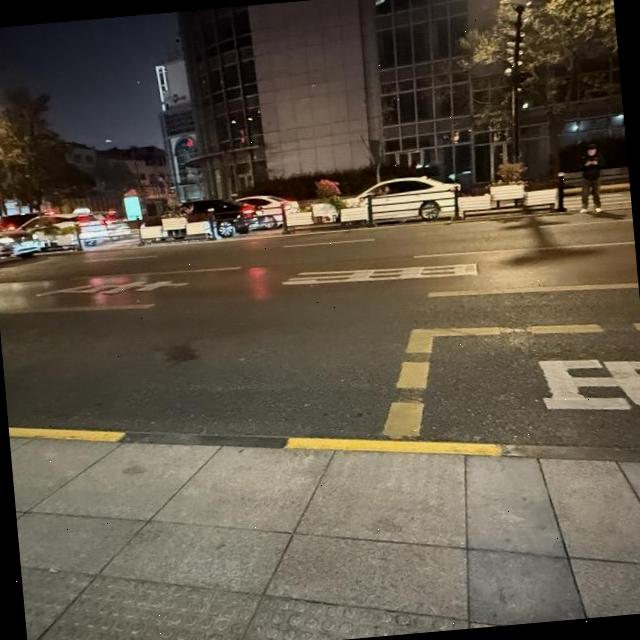curb: (8, 426, 640, 461)
